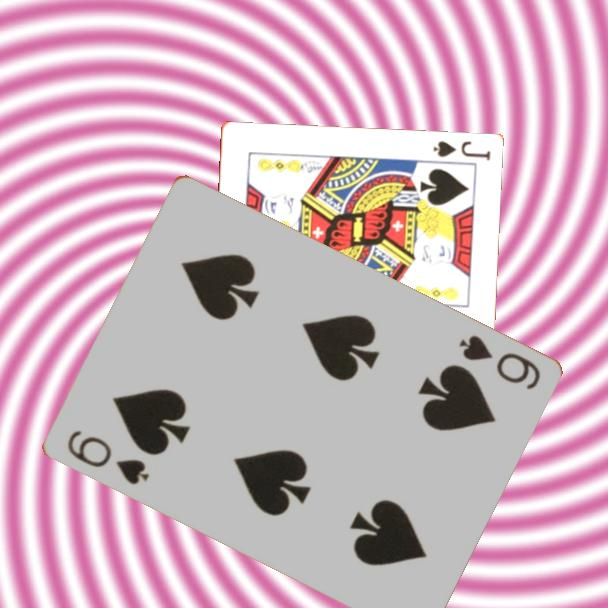s06: (63, 427, 152, 489), (454, 331, 543, 393)
s11: (430, 138, 493, 164)
